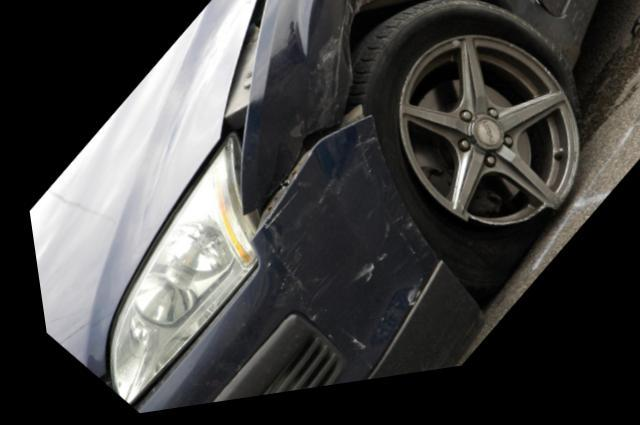dent: (274, 0, 387, 73)
scratch: (252, 140, 388, 332)
tire flat: (343, 9, 573, 302)
